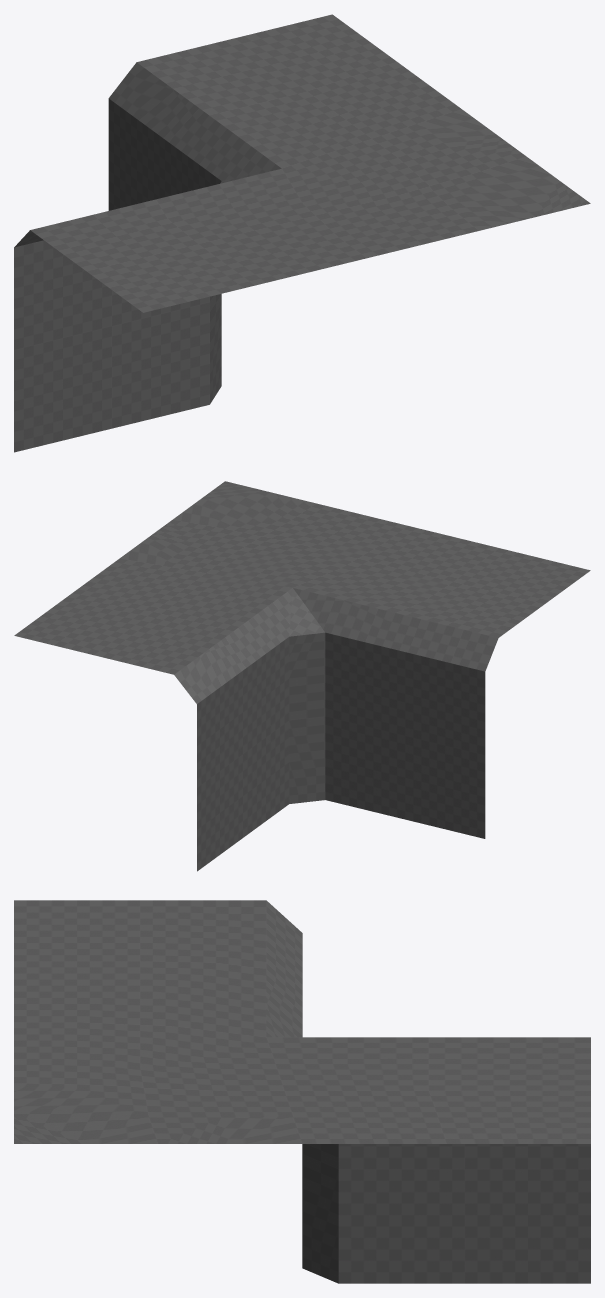
The picture shows the model from 3 angles, top to bottom: view 1: azimuth 30°, elevation 25°; view 2: azimuth 150°, elevation 25°; view 3: azimuth 270°, elevation 25°; orthographic projection. The views are drawn at different scales.
Parts seen in each view (by area): view 1: 0; view 2: 0; view 3: 0.
Part boxes in pixels (x1,y1,x2,y2): 0: (14, 14, 590, 452); 0: (14, 481, 590, 871); 0: (14, 900, 590, 1283).
Size of the model in its own units: 4 by 2 by 4.
Materials: 1 (1 with a texture image).
